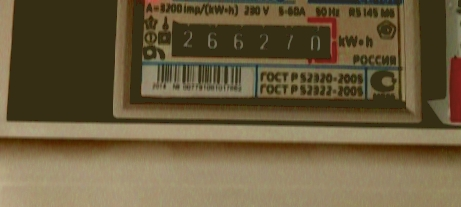0: (309, 32, 324, 52)
2: (183, 27, 196, 49), (259, 31, 273, 51)
6: (234, 30, 247, 50), (208, 29, 220, 50)
7: (286, 31, 296, 50)
screen: (161, 10, 345, 68)
